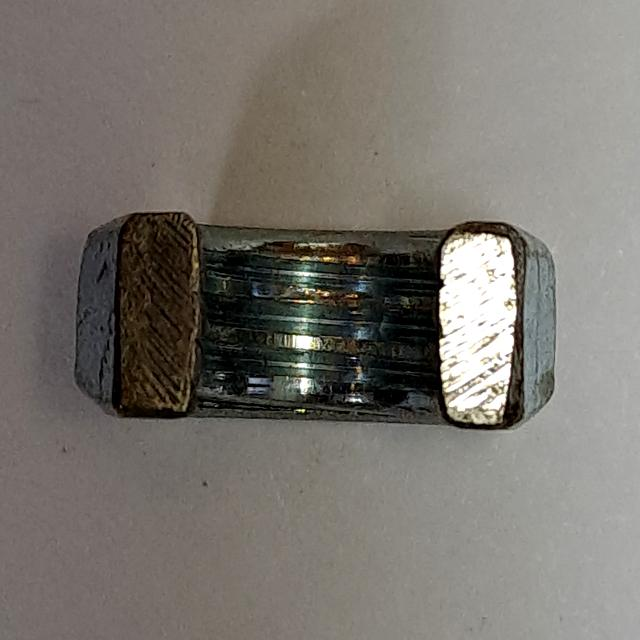Side-Fracture: (51, 181, 586, 450)
